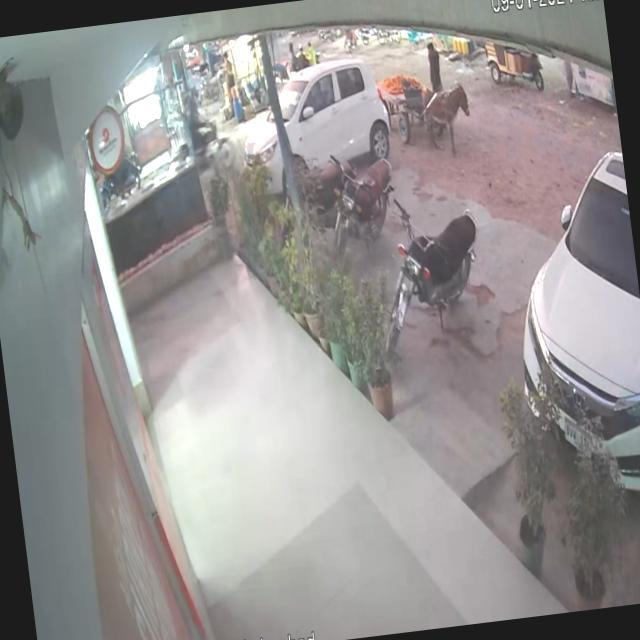Car: (488, 102, 640, 518), (210, 41, 398, 188)
Motorcycle: (365, 177, 502, 360), (326, 145, 407, 250)
